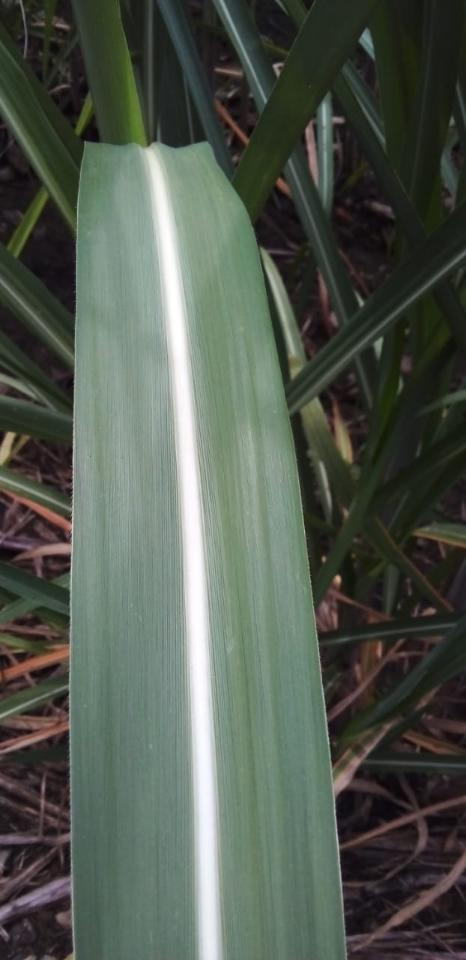Healthy: (68, 139, 349, 959)
